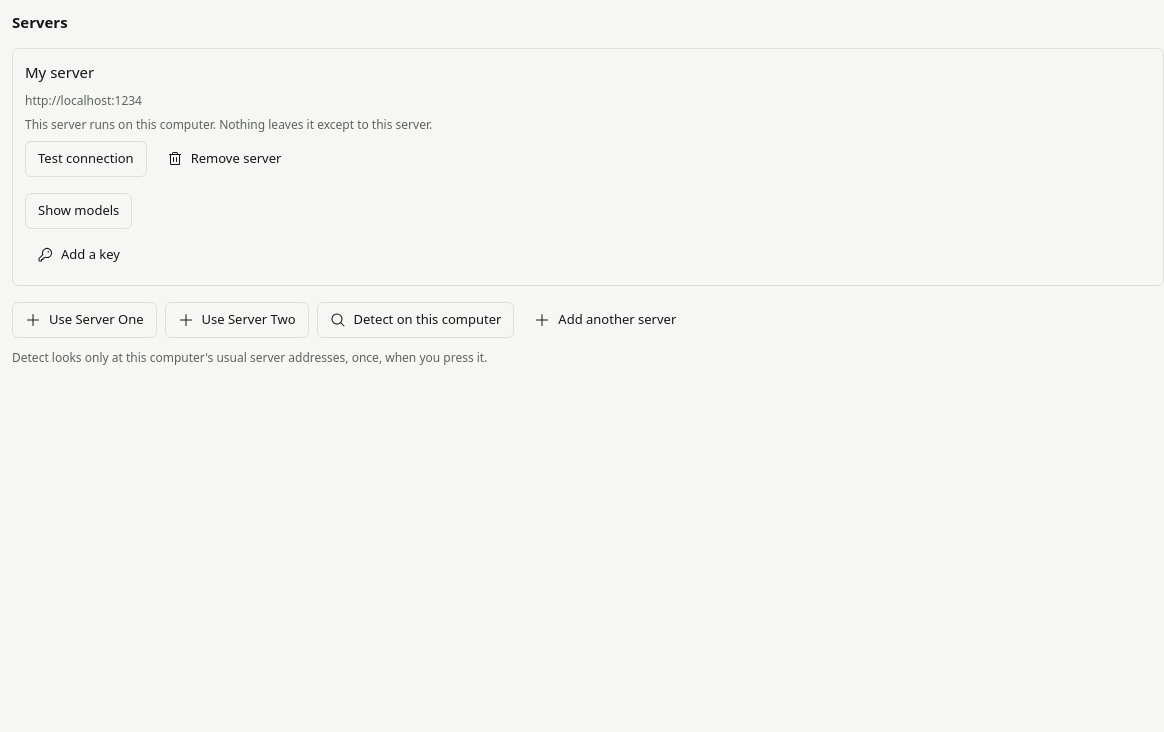
Scenario: a server's models (epic 14 story 14.5) › shows each model with what the server reported and its cautions, and says when it reported nothing
Click the button with test id "endpoint-show-models". click: (79, 211)
box: [25, 193, 132, 229]
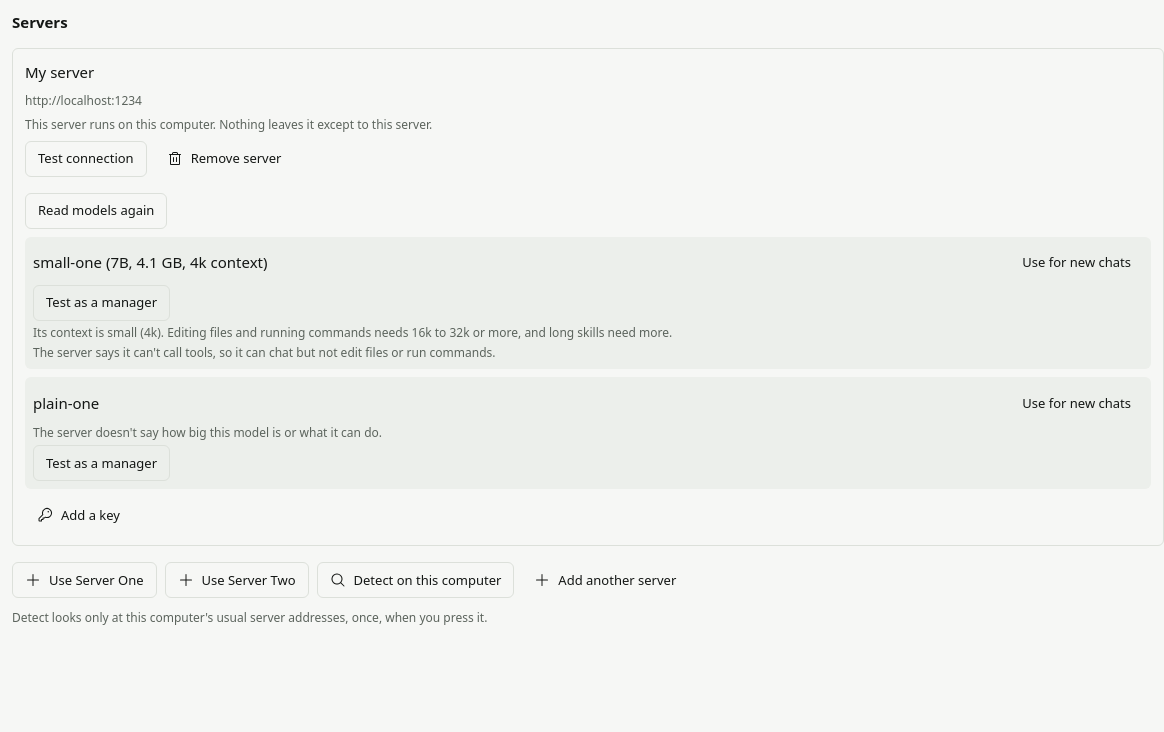
expect the list item with test id "endpoint-model-small-one" shows "small-one (7B, 4.1 GB, 4k context)": met, box [25, 237, 1151, 369]
expect the list item with test id "endpoint-model-plain-one" shows "doesn't say how big this model is": met, box [33, 424, 382, 441]
